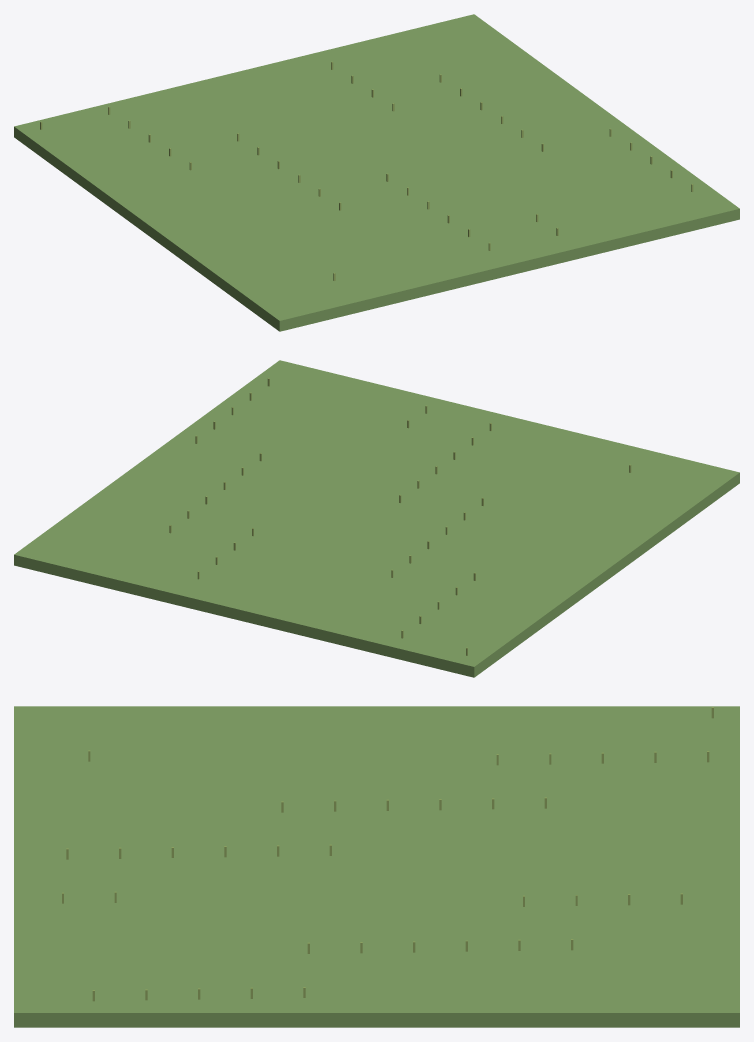
Rendered from grass-tile-8.glb.
3 renders of one model, top to bottom at view 1: azimuth 30°, elevation 25°; view 2: azimuth 150°, elevation 25°; view 3: azimuth 270°, elevation 25°, orthographic. The views are drawn at different scales.
Visible parts, largest first — view 1: grass-tile-8; view 2: grass-tile-8; view 3: grass-tile-8.
Part boxes in pixels (box(x1,y1,x2,y2)): grass-tile-8: box(14, 14, 739, 331); grass-tile-8: box(14, 360, 739, 677); grass-tile-8: box(14, 706, 739, 1027).
Bounding box in the file's own units: 8 × 0.305 × 8.
